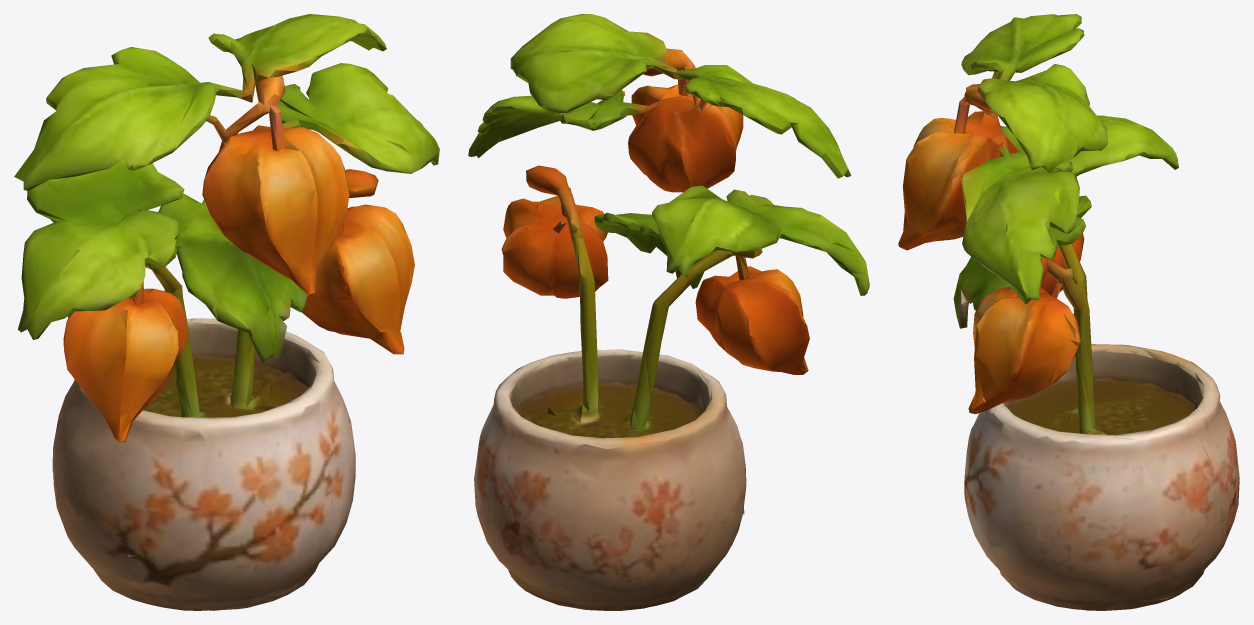
File: plant16.glb
3 views of the same model, side by side, from view 1: azimuth 30°, elevation 25°; view 2: azimuth 150°, elevation 25°; view 3: azimuth 270°, elevation 25° (orthographic). The views are drawn at different scales.
Size of the model in its own units: 0.2403 by 0.2985 by 0.1814.
Materials: 1 (1 with a texture image).
